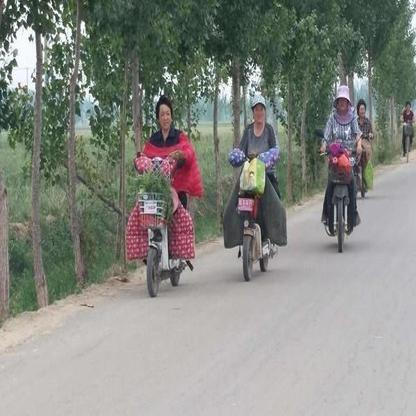target: (126, 94, 206, 296), (221, 93, 290, 282), (319, 84, 369, 257)
